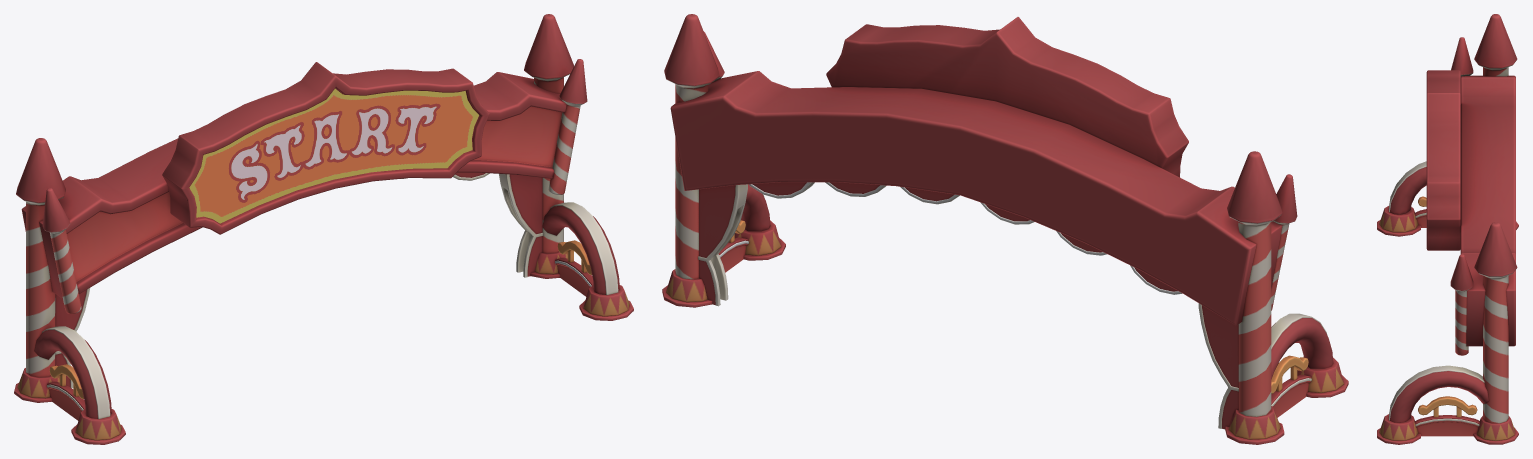
Rendered from SM_ColorSwitchGate01.fbx.
The picture shows the model from 3 angles, left to right: view 1: azimuth 30°, elevation 25°; view 2: azimuth 150°, elevation 25°; view 3: azimuth 270°, elevation 25°; orthographic projection. The views are drawn at different scales.
Visible parts, largest first — view 1: SM_ColorSwitchGate01; view 2: SM_ColorSwitchGate01; view 3: SM_ColorSwitchGate01.
Part boxes in pixels (x1,y1,x2,y2): SM_ColorSwitchGate01: (14,14,633,444); SM_ColorSwitchGate01: (662,14,1348,444); SM_ColorSwitchGate01: (1377,14,1518,444).
Bounding box in the file's own units: 5817 × 2838 × 1530.
